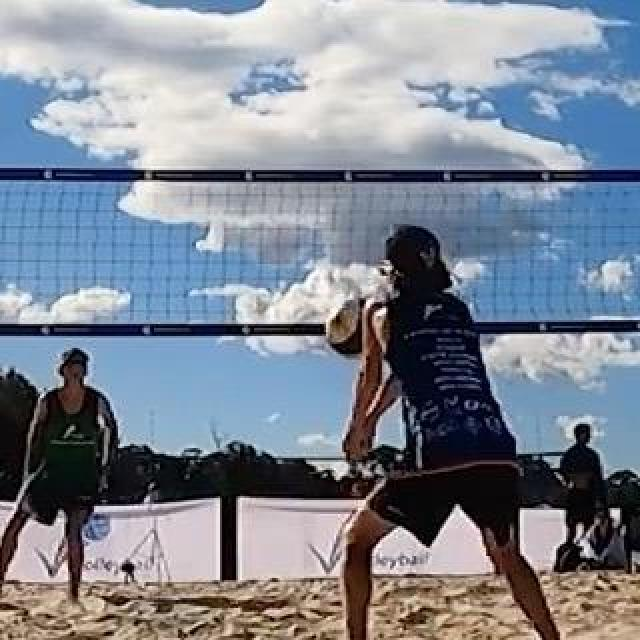volleyball: (326, 296, 388, 358)
